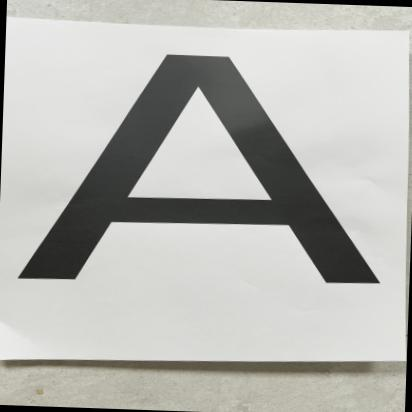seat: (23, 46, 412, 284)
